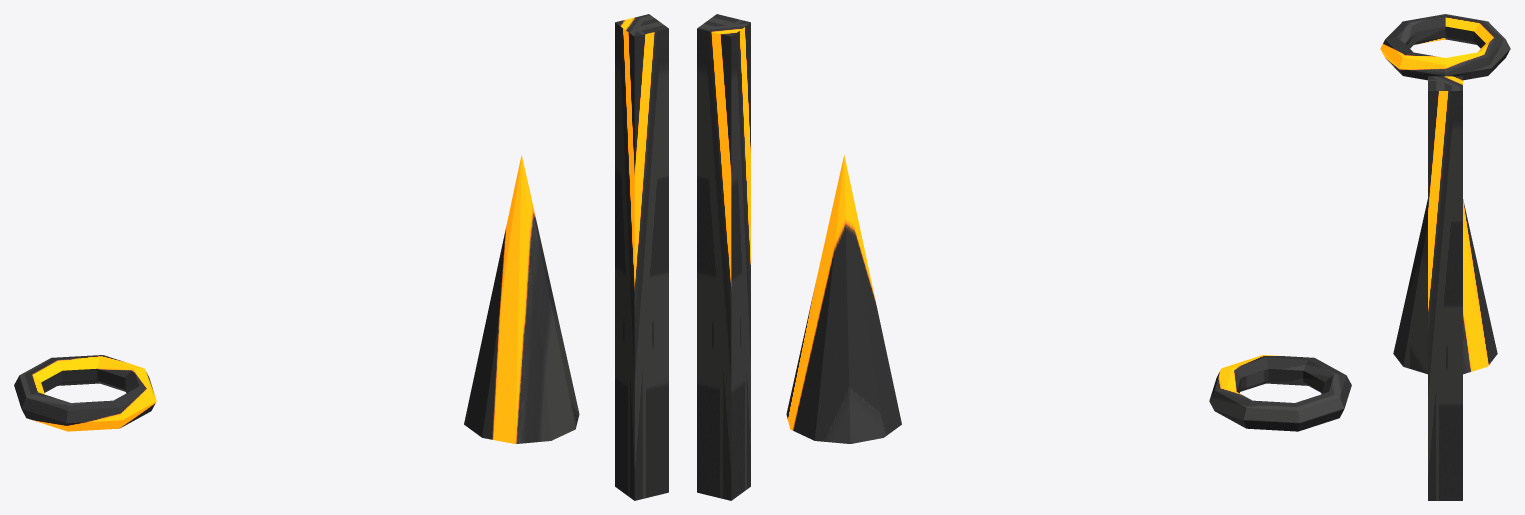
File: PropsExtras .fbx
3 views of the same model, side by side, from view 1: azimuth 30°, elevation 25°; view 2: azimuth 150°, elevation 25°; view 3: azimuth 270°, elevation 25° (orthographic). The views are drawn at different scales.
Parts seen in each view (by area): view 1: Cube.001, Cone, Torus; view 2: Cube.001, Cone, Torus; view 3: Cube.001, Cone, Torus.
Boxes of the visible parts, x1,y1,x2,y2 form: Cube.001: (615,14,668,500); Cone: (464,155,579,443); Torus: (14,355,156,431); Cube.001: (697,14,750,500); Cone: (786,155,901,443); Torus: (1209,355,1351,431); Cube.001: (1428,76,1462,500); Cone: (1393,199,1497,374); Torus: (1380,14,1510,80).
Size of what is drawn, in the model's own units: 1246 by 867 by 250.
